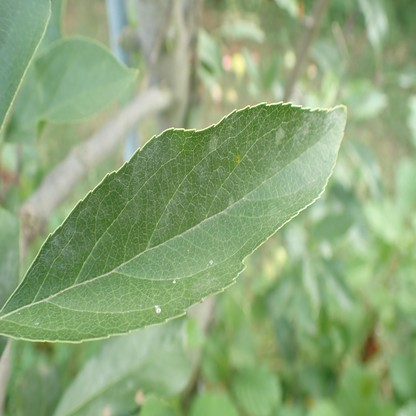powdery_mildew: (0, 102, 349, 345)
